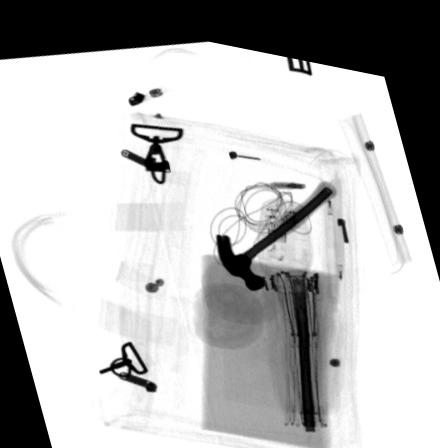Hammer: (215, 165, 339, 280)
